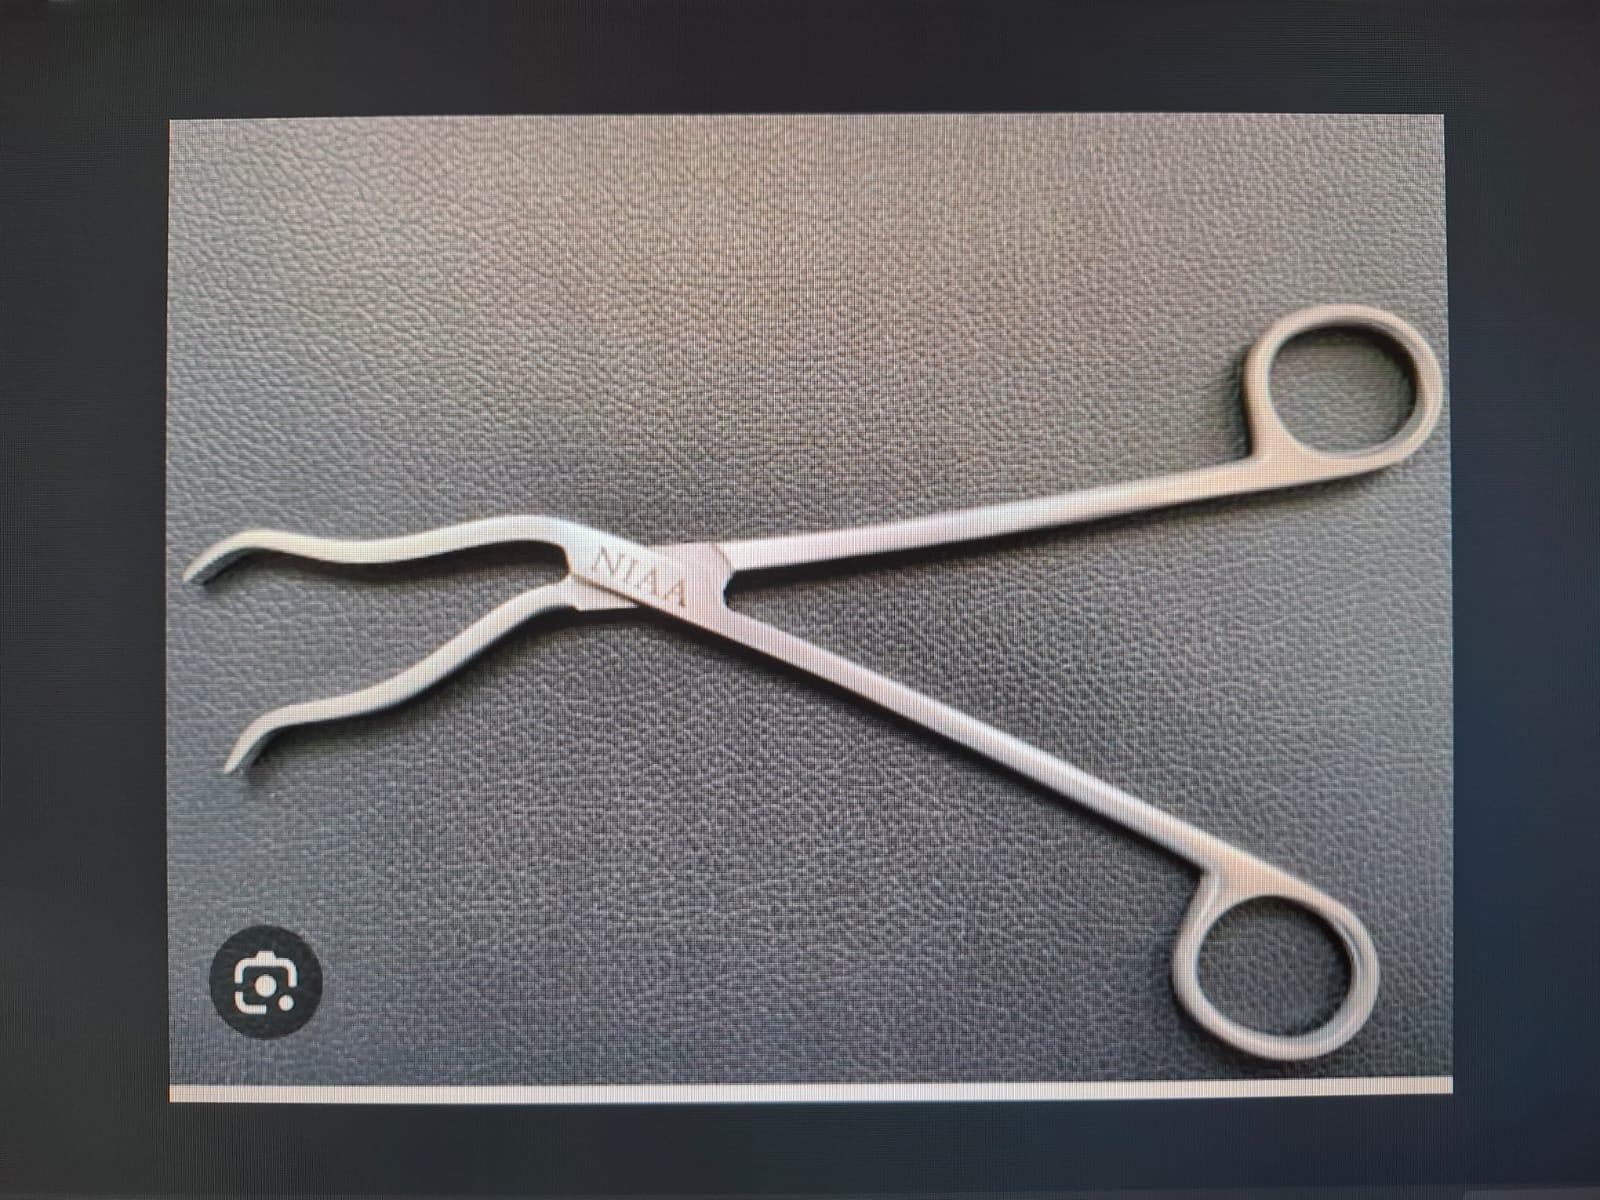Cheatle Forceps: (176, 298, 1444, 1076)
